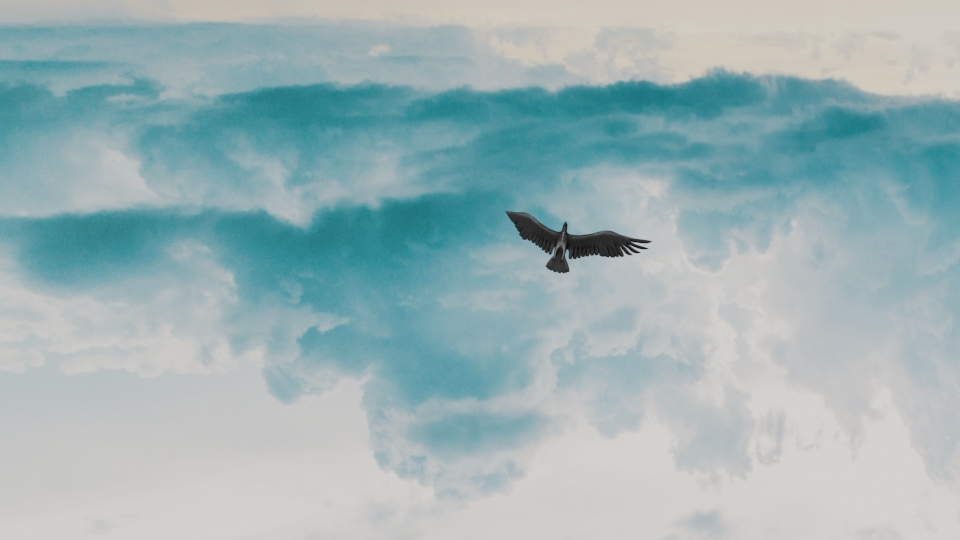bird: (499, 207, 645, 277)
